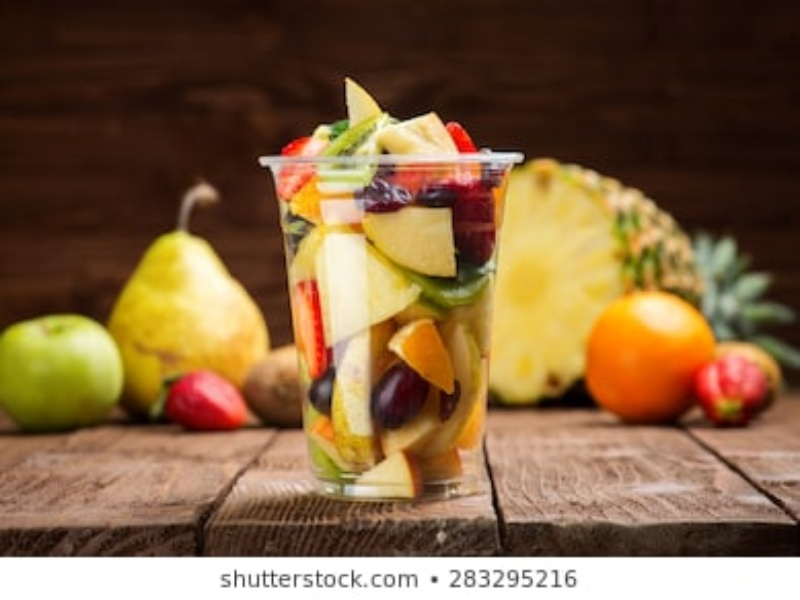plastic-cup: (254, 147, 536, 502)
